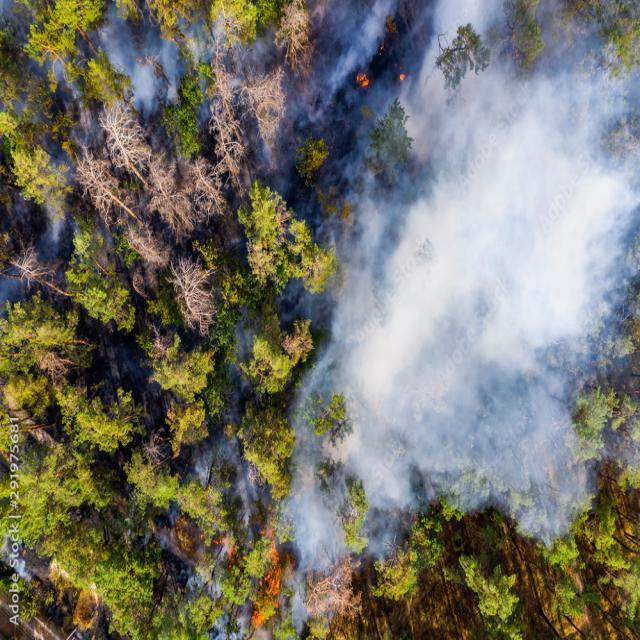Fire: (238, 516, 296, 638), (340, 42, 420, 104), (156, 508, 208, 594)
Smoke: (336, 111, 628, 515), (438, 4, 632, 202), (2, 0, 191, 186)
